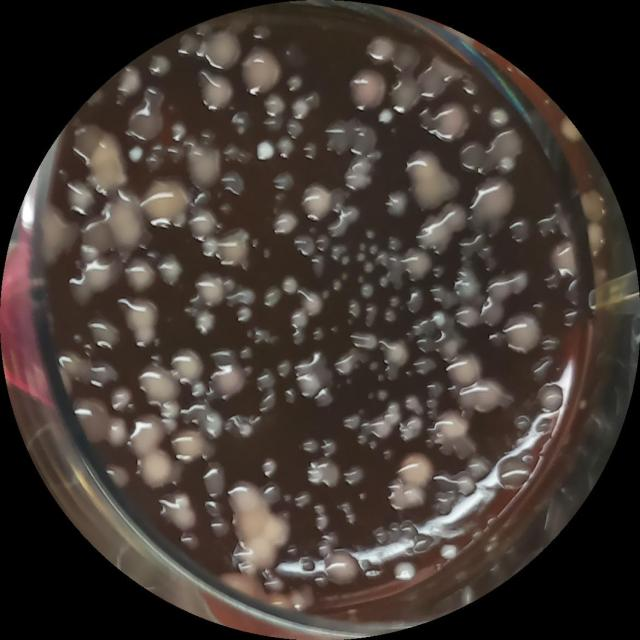Bacillus: (140, 178, 188, 230), (101, 195, 147, 249), (474, 174, 520, 221), (202, 24, 246, 72), (136, 445, 178, 494), (502, 310, 544, 358), (346, 66, 387, 115), (120, 296, 160, 346), (184, 142, 224, 192), (239, 49, 284, 93), (194, 70, 238, 115), (136, 363, 179, 409), (212, 223, 253, 271), (431, 100, 470, 145), (322, 546, 363, 588), (444, 350, 483, 392), (404, 150, 442, 191), (434, 408, 472, 448), (298, 181, 334, 223), (170, 345, 206, 386), (398, 452, 434, 492), (398, 243, 435, 281), (468, 377, 502, 418), (185, 204, 216, 242)
Staphylococcus: (254, 138, 275, 163), (126, 142, 146, 166), (376, 105, 395, 128)
